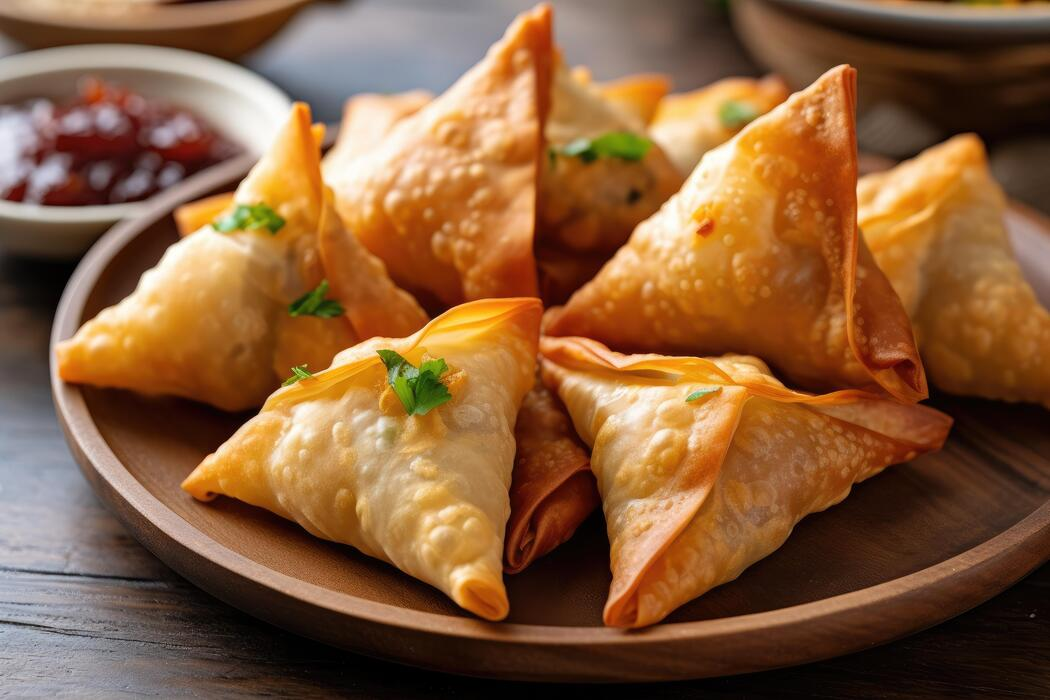samosa: (578, 57, 920, 417), (550, 325, 952, 617), (175, 298, 512, 628), (60, 102, 427, 377), (322, 7, 588, 322), (858, 120, 1050, 413)
